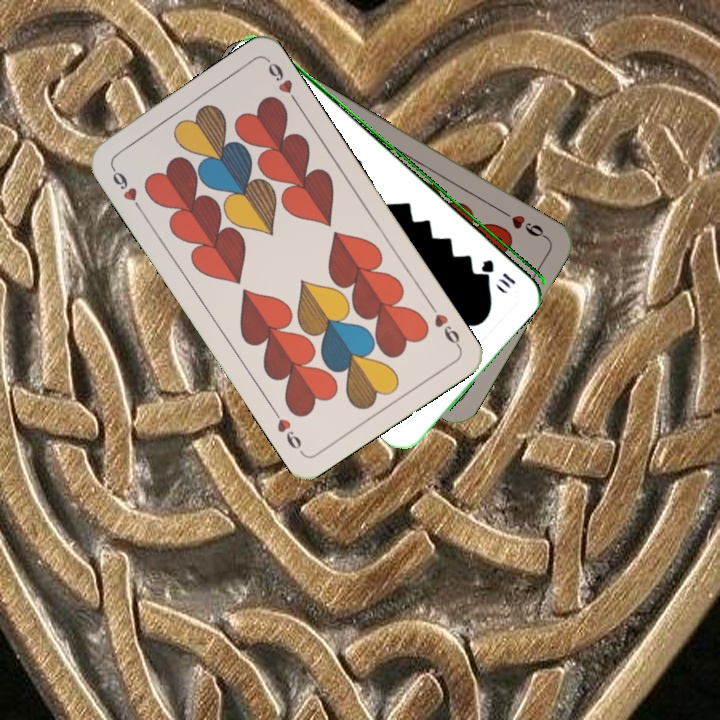G10: (479, 255, 518, 291)
H9: (107, 161, 145, 214), (496, 205, 550, 242), (425, 299, 463, 351)
